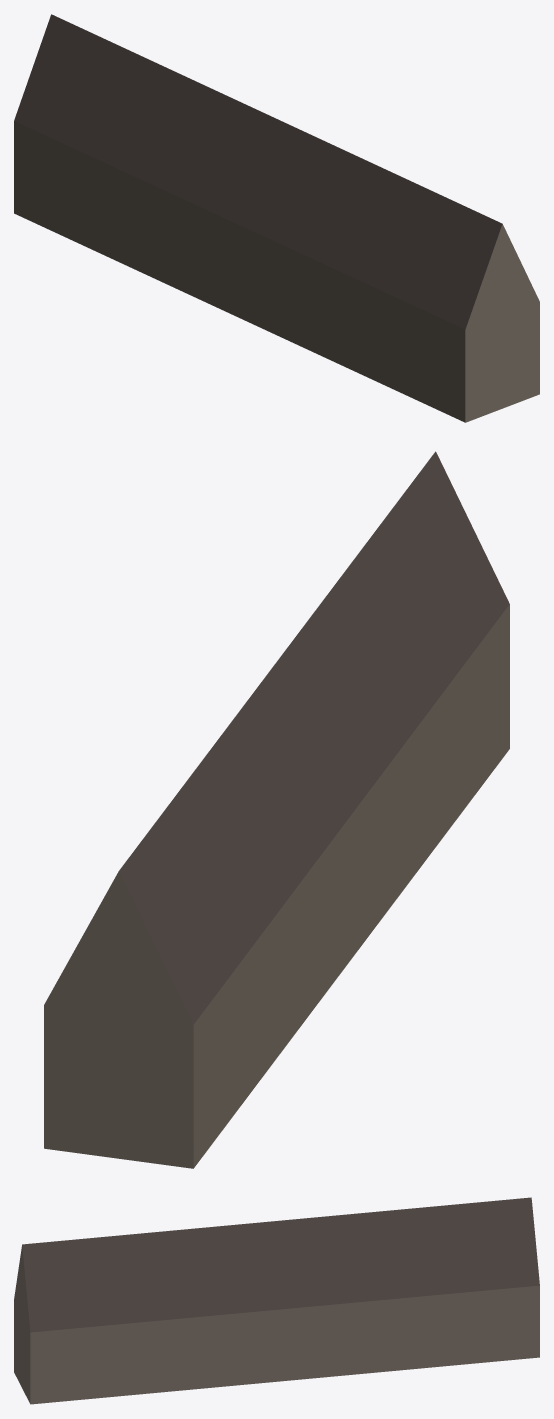
3 renders of one model, top to bottom at view 1: azimuth 30°, elevation 25°; view 2: azimuth 150°, elevation 25°; view 3: azimuth 270°, elevation 25°, orthographic. The views are drawn at different scales.
Parts seen in each view (by area): view 1: HP-w428196075; view 2: HP-w428196075; view 3: HP-w428196075.
Part boxes in pixels (left/top/right/bottom): HP-w428196075: left=14, top=14, right=539, bottom=422; HP-w428196075: left=44, top=451, right=509, bottom=1168; HP-w428196075: left=14, top=1197, right=539, bottom=1404.
Size of the model in its own units: 7.1 by 6 by 19.88.
